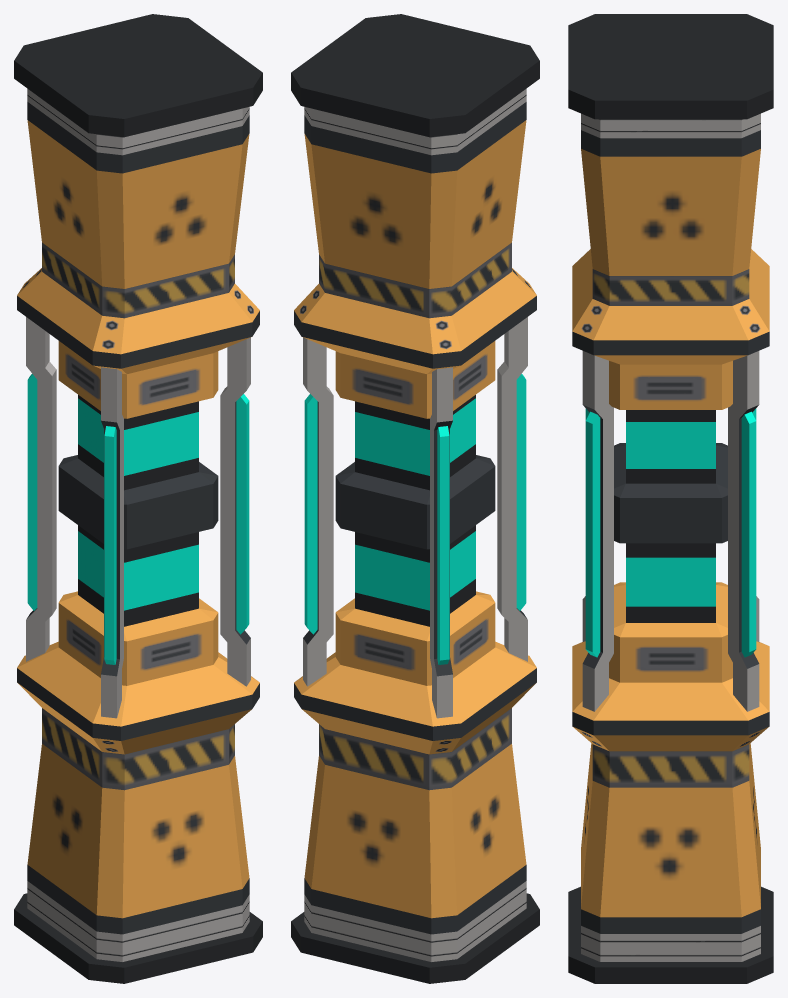
File: SM_Bld_Corner_Trim_01.fbx
3 views of the same model, side by side, from view 1: azimuth 30°, elevation 25°; view 2: azimuth 150°, elevation 25°; view 3: azimuth 270°, elevation 25° (orthographic). The views are drawn at different scales.
Parts seen in each view (by area): view 1: SM_Bld_Corner_Trim_01; view 2: SM_Bld_Corner_Trim_01; view 3: SM_Bld_Corner_Trim_01.
Part boxes in pixels (x1,y1,x2,y2): SM_Bld_Corner_Trim_01: (14, 14, 262, 983); SM_Bld_Corner_Trim_01: (291, 14, 539, 983); SM_Bld_Corner_Trim_01: (568, 14, 773, 983).
Size of the model in its own units: 63.25 by 300 by 63.25.
